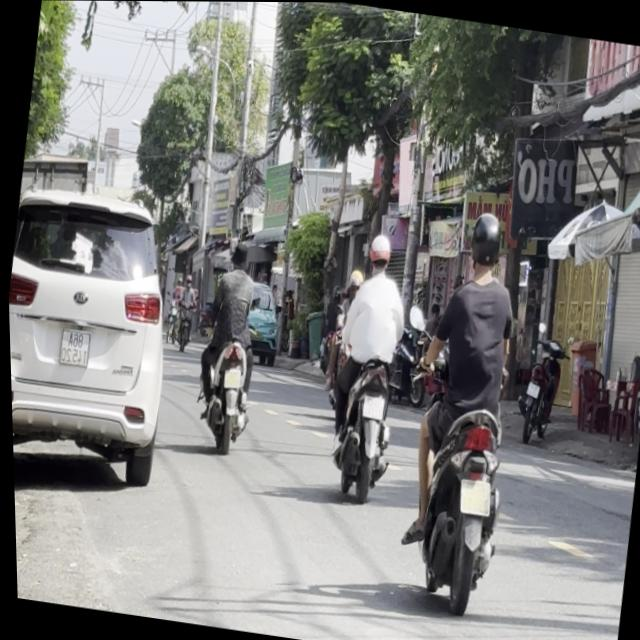helmet: (463, 208, 507, 278), (365, 231, 393, 275)
licenseplate: (382, 200, 546, 617), (311, 225, 422, 504), (184, 235, 274, 455)
motorcyclist: (230, 239, 251, 271)
nohelmet: (456, 478, 489, 516), (360, 394, 383, 419), (221, 367, 241, 389)
